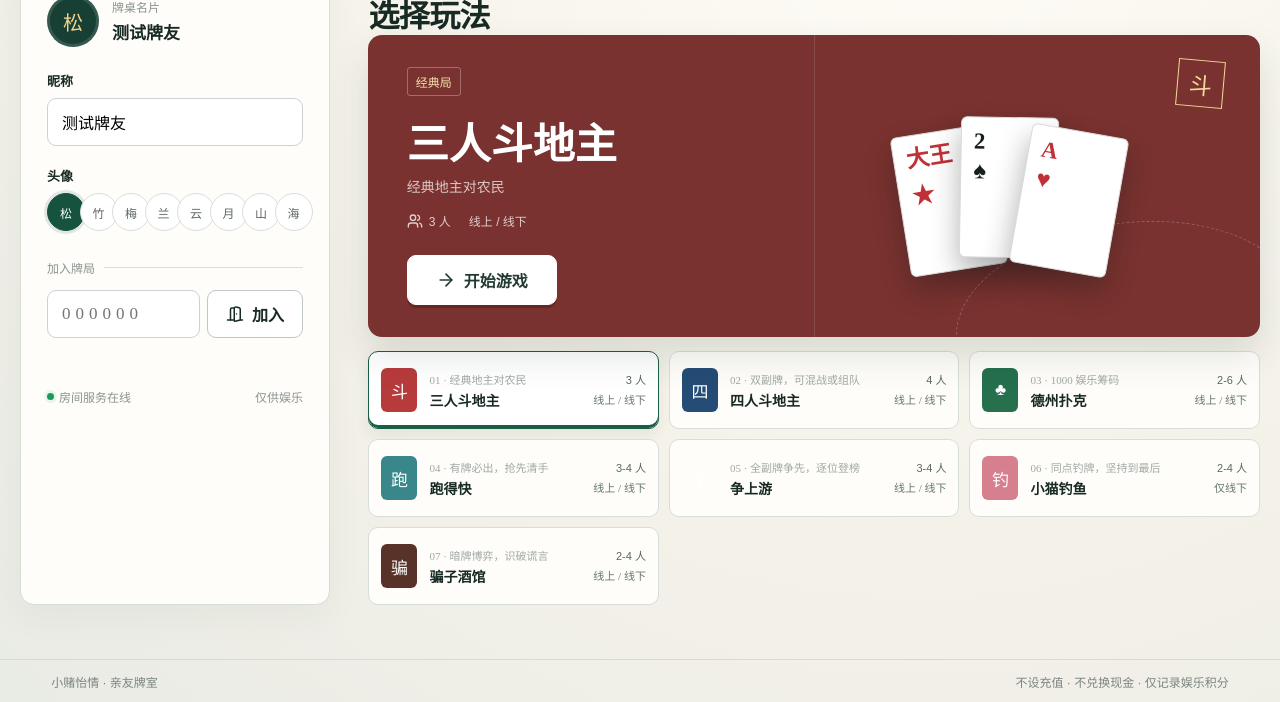
Test: 创建房间 › 线上质疑使用与线下相同的左轮，并先转轮再显示结果
(page scrolled)
Click the button "骗 07 · 暗牌博弈，识破谎言 骗子酒馆 2-4 人 线上 / 线下" at (399, 566), box [368, 527, 659, 605]
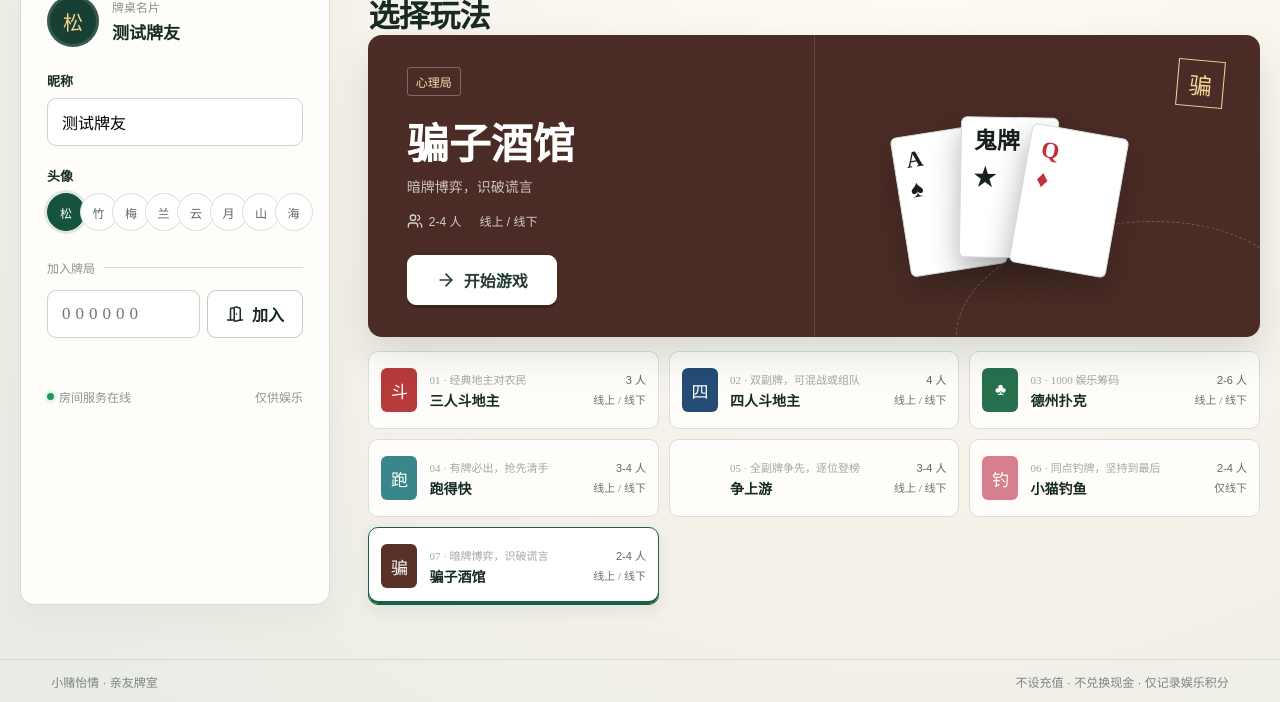
Click the button "开始游戏" at (482, 280), box [407, 255, 557, 305]
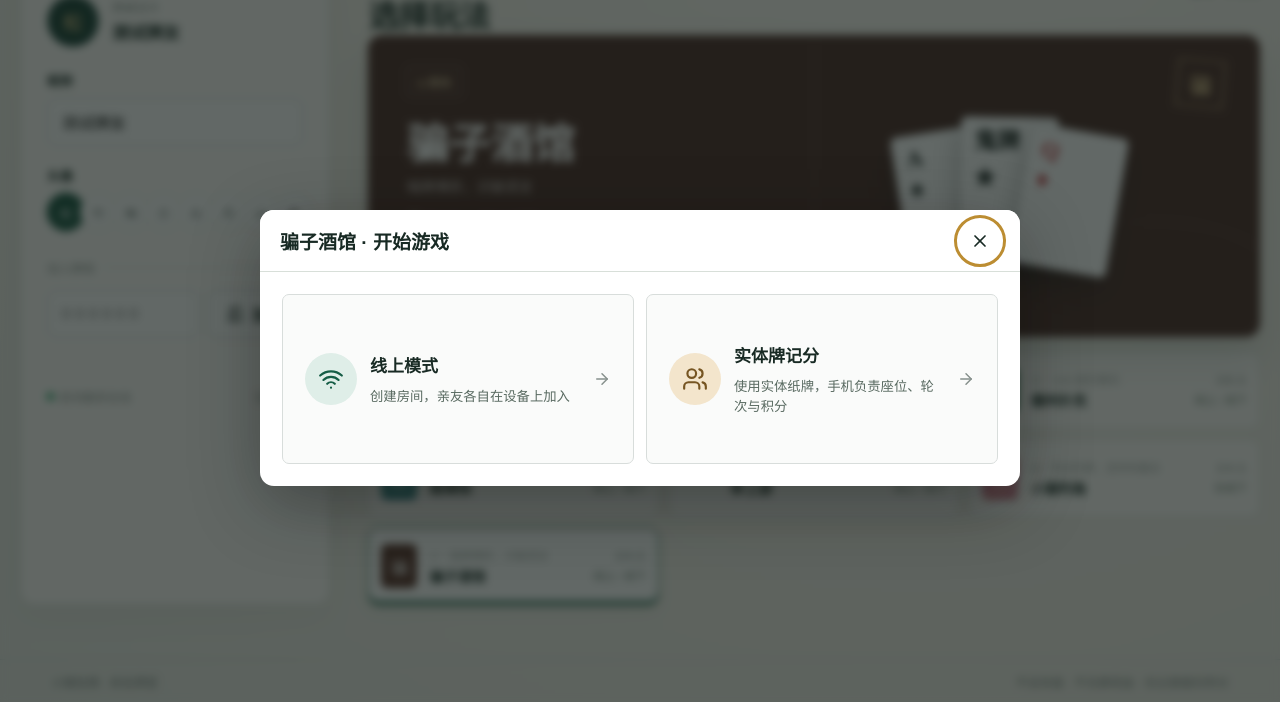
Click the button "线上模式 创建房间，亲友各自在设备上加入" at (331, 379), box [282, 294, 634, 464]
(page scrolled)
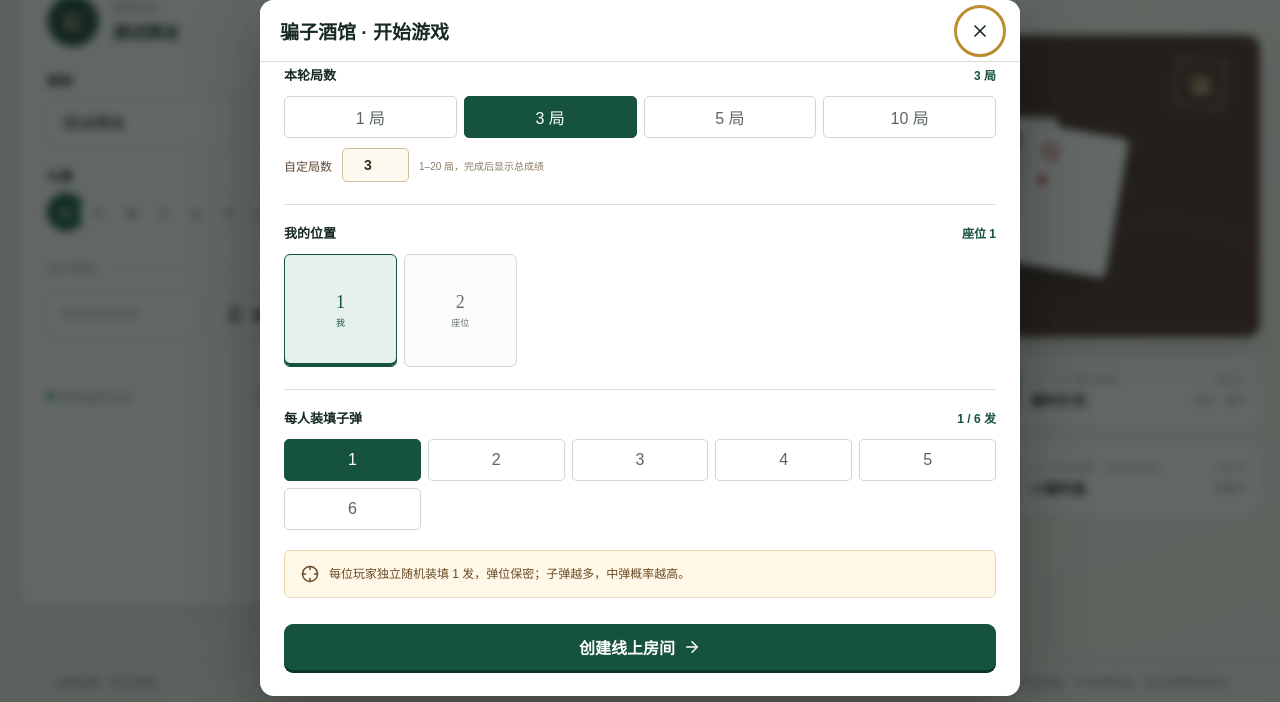
Click the button "创建线上房间" at (640, 647), box [284, 624, 996, 670]
Wait 880 ms
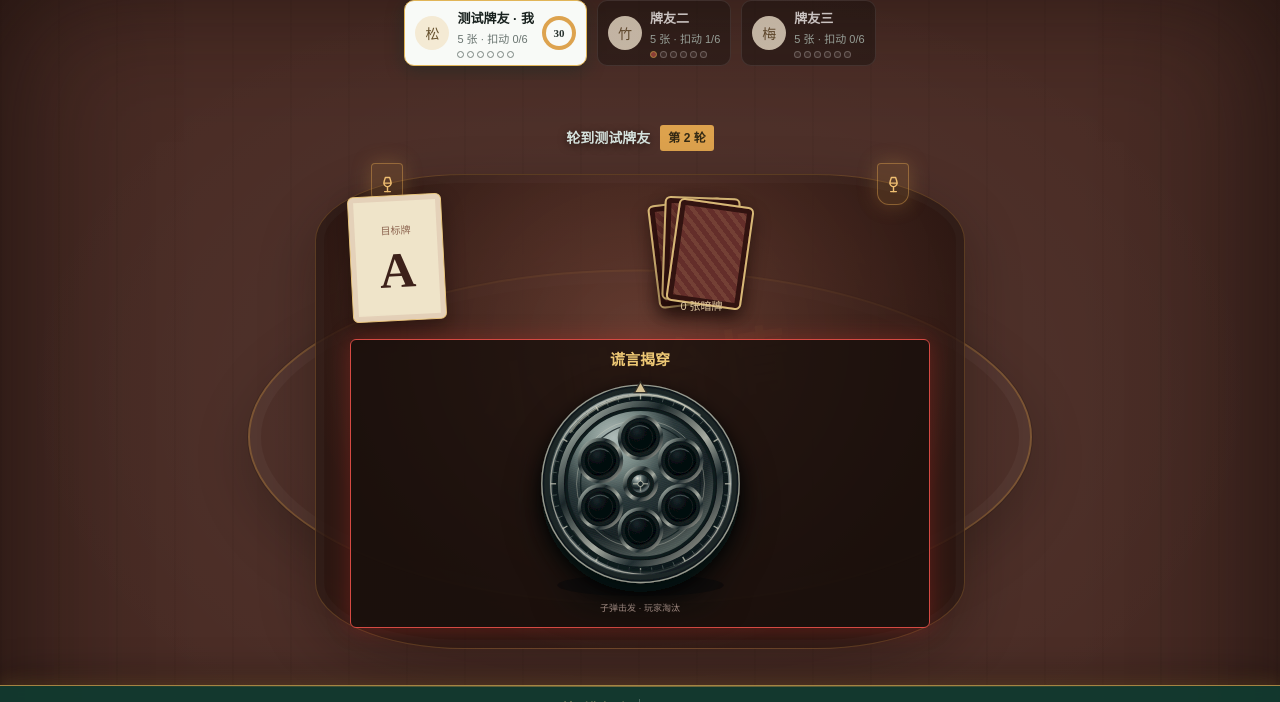
Now the picture with class "revolver-spinning" is shown, box [518, 364, 762, 609]
